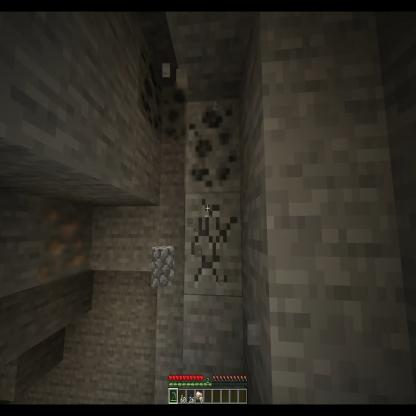coal ore: (184, 96, 243, 195), (138, 51, 162, 141), (161, 81, 188, 143)
iron ore: (40, 202, 92, 290)
